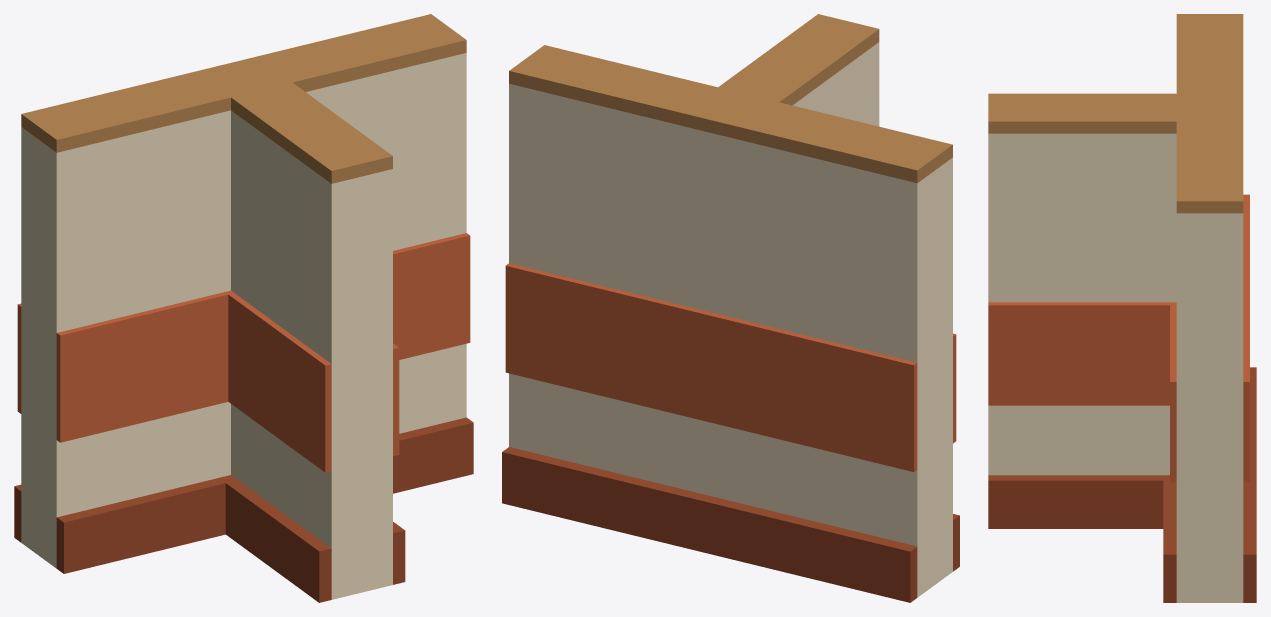
Rendered from partition-full-tee.glb.
3 views of the same model, side by side, from view 1: azimuth 30°, elevation 25°; view 2: azimuth 150°, elevation 25°; view 3: azimuth 270°, elevation 25° (orthographic). The views are drawn at different scales.
Visible parts, largest first — view 1: partition-full-tee; view 2: partition-full-tee; view 3: partition-full-tee.
Part boxes in pixels (x1,y1,x2,y2): partition-full-tee: (14, 14, 473, 602); partition-full-tee: (502, 14, 959, 602); partition-full-tee: (988, 14, 1256, 602).
Bounding box in the file's own units: 1 × 1 × 0.605.
1 material, 1 textured.
